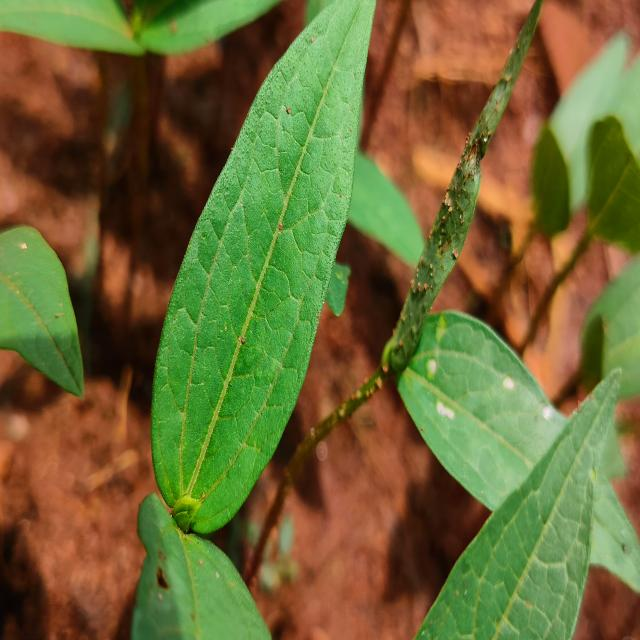Black gram_healthy: (154, 0, 372, 532), (398, 311, 640, 595), (412, 366, 622, 640), (0, 223, 88, 401)
